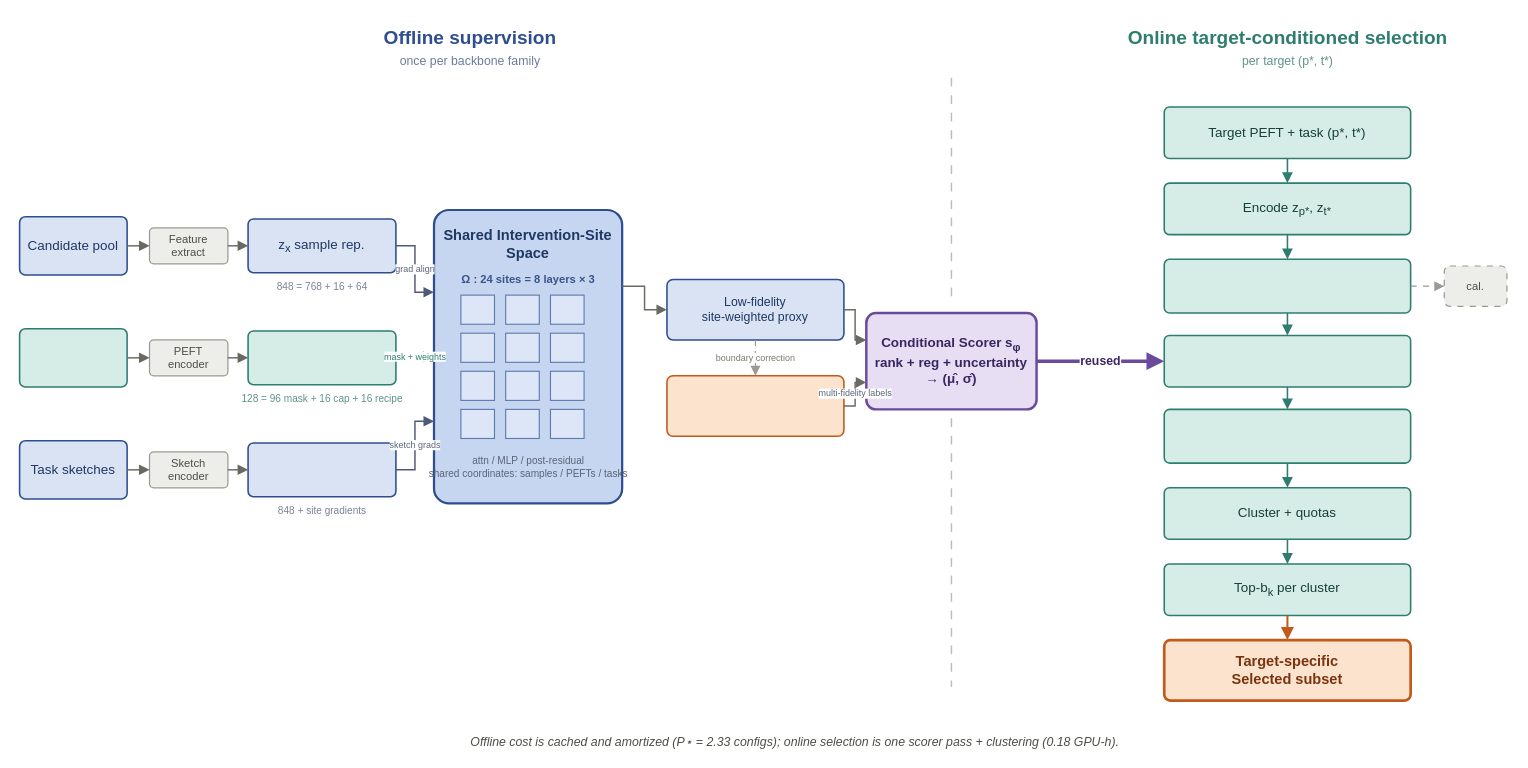
The diagram is 1528 pixels wide and 768 high, and some of its shapes have lost their labels. The shapes that lost their labels are listed below. From the top down, each one's centre as x and y in pixels, then its label:
the point at 1287,285: Support-tier check near / far / new family
the point at 72,357: PEFT registry
the point at 321,357: z p PEFT code
the point at 1287,360: Score pool → (μ̂, σ̂)
the point at 755,405: High-fidelity short-horizon labels
the point at 1287,435: Conservative score q = μ̂ − λσ̂
the point at 321,469: z t task sketch
